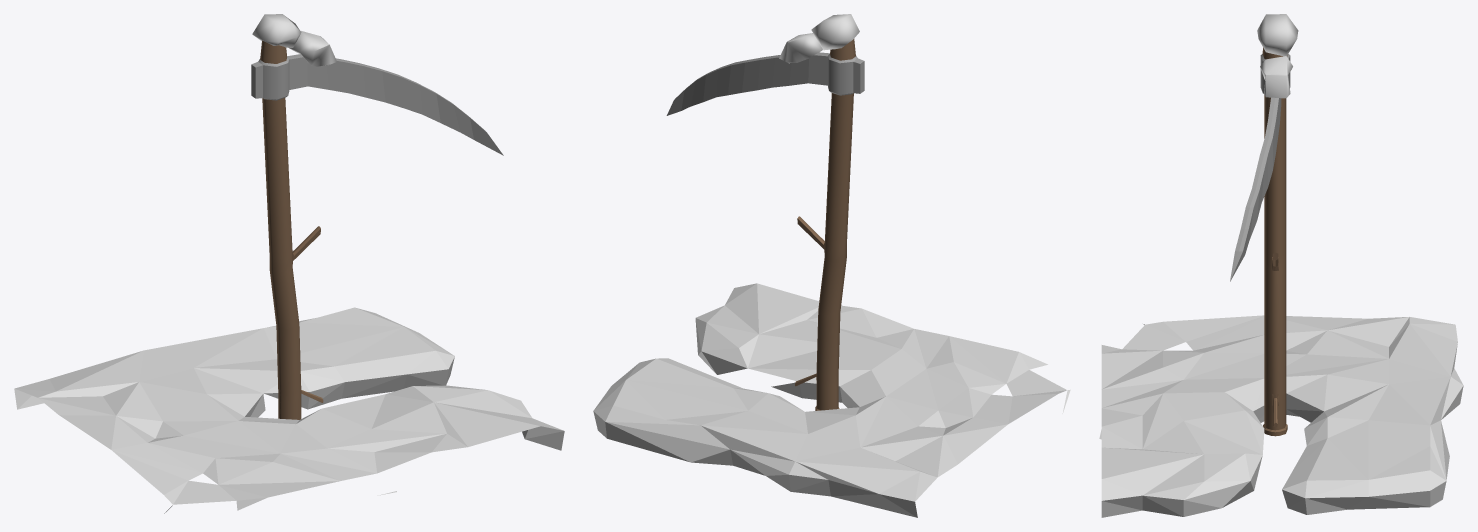
File: ScytheSn2.fbx
The picture shows the model from 3 angles, left to right: view 1: azimuth 30°, elevation 25°; view 2: azimuth 150°, elevation 25°; view 3: azimuth 270°, elevation 25°; orthographic projection. The views are drawn at different scales.
Visible parts, largest first — view 1: Scythe_Sn; view 2: Scythe_Sn; view 3: Scythe_Sn.
Boxes of the visible parts, x1=… form: Scythe_Sn: x1=14, y1=14, x2=564, y2=513; Scythe_Sn: x1=593, y1=14, x2=1070, y2=517; Scythe_Sn: x1=1099, y1=14, x2=1463, y2=517.
Size of the model in its own units: 10.39 by 11.16 by 8.87.
